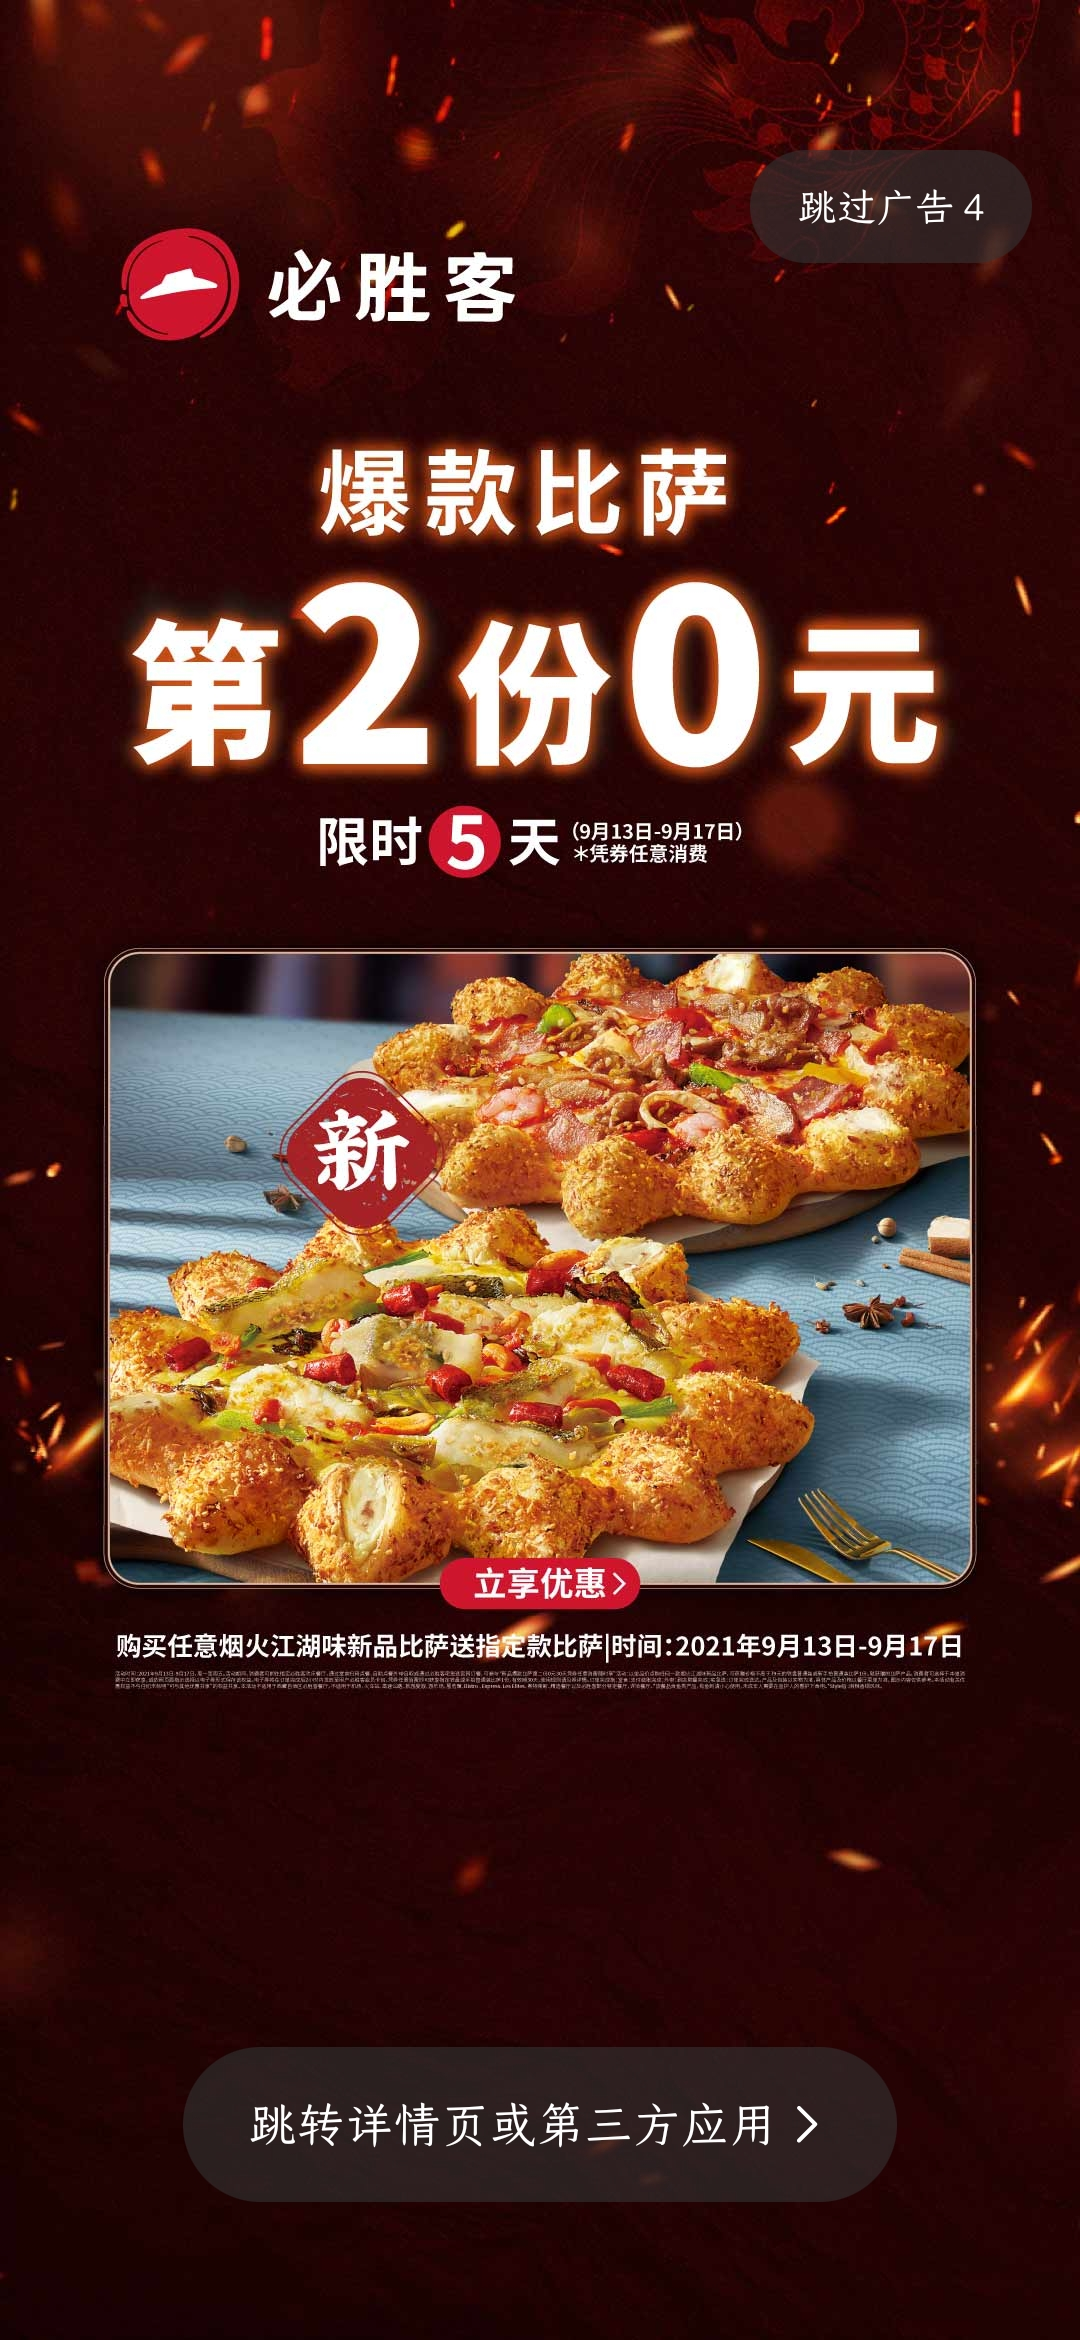skip: (774, 167, 1005, 252)
